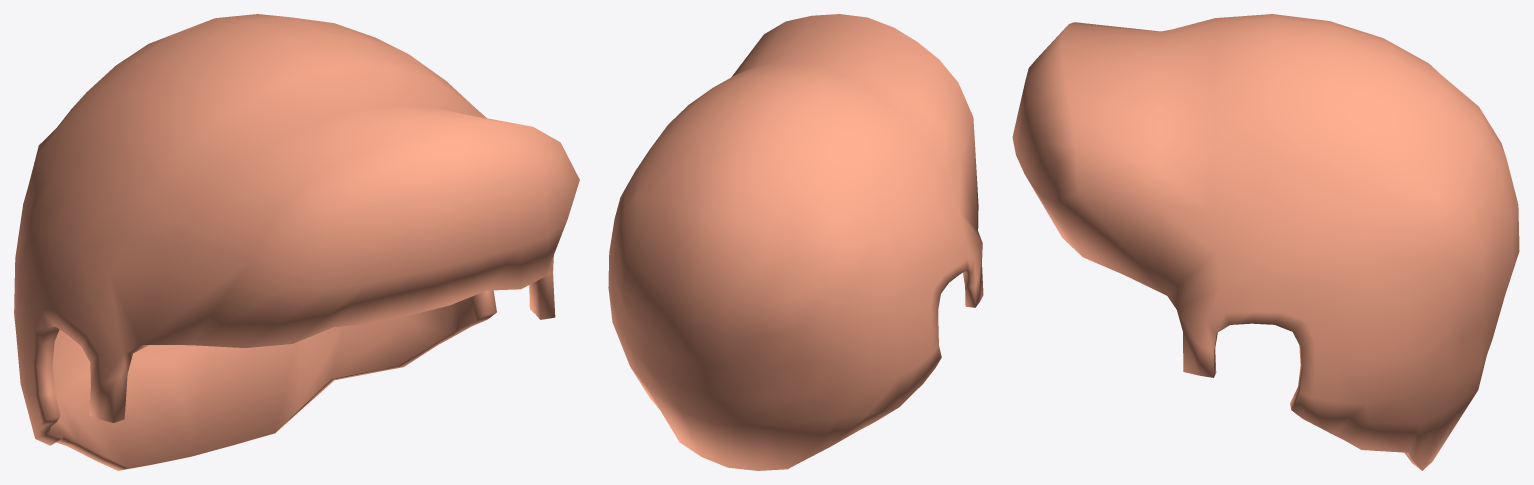
File: FixedCharacterHair.fbx
The picture shows the model from 3 angles, left to right: view 1: azimuth 30°, elevation 25°; view 2: azimuth 150°, elevation 25°; view 3: azimuth 270°, elevation 25°; orthographic projection. The views are drawn at different scales.
Parts seen in each view (by area): view 1: Hair4; view 2: Hair4; view 3: Hair4.
Boxes of the visible parts, bbox=[...] form: Hair4: bbox=[14, 14, 579, 470]; Hair4: bbox=[608, 14, 983, 470]; Hair4: bbox=[1012, 14, 1519, 470].
Bounding box in the file's own units: 33.93 × 38.6 × 34.91.
